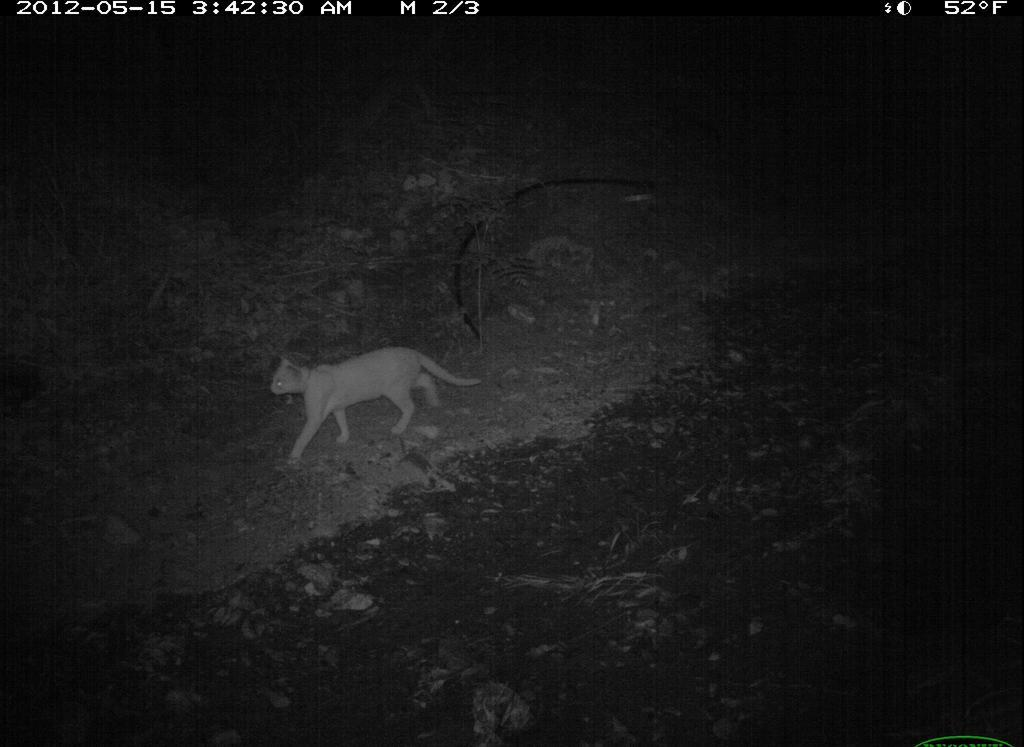cat: (244, 341, 492, 469)
